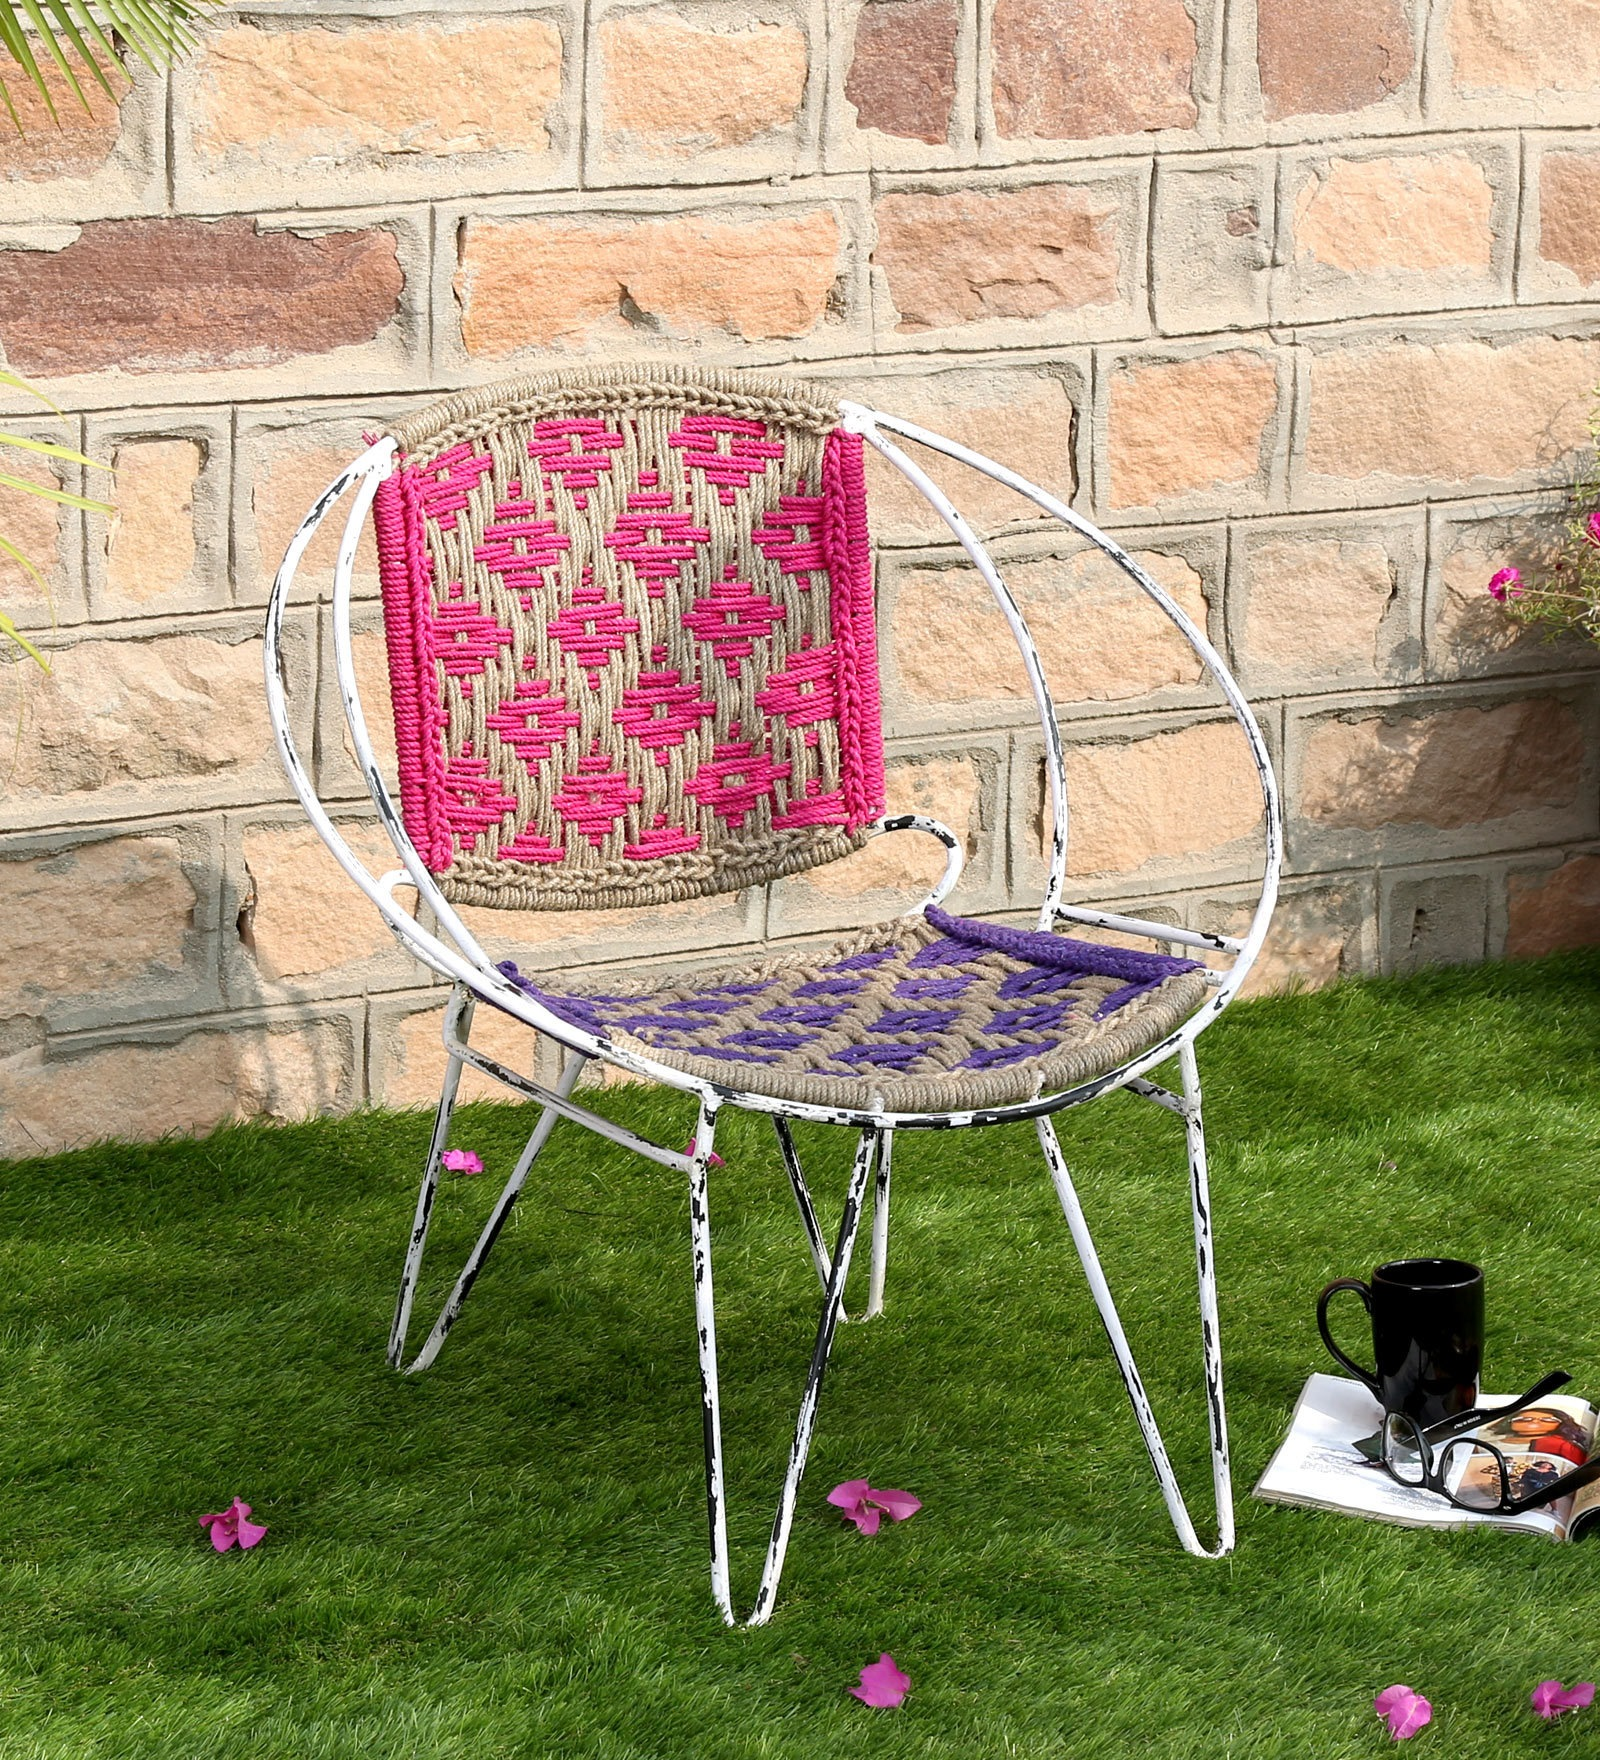Ambatovy Outdoor Chair in Multicolour by Bohemiana: (227, 323, 1353, 1653)
